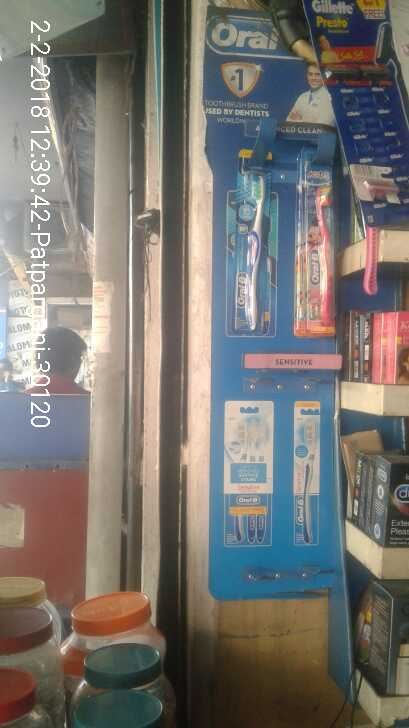oralb: (225, 161, 277, 340), (298, 162, 341, 341)
